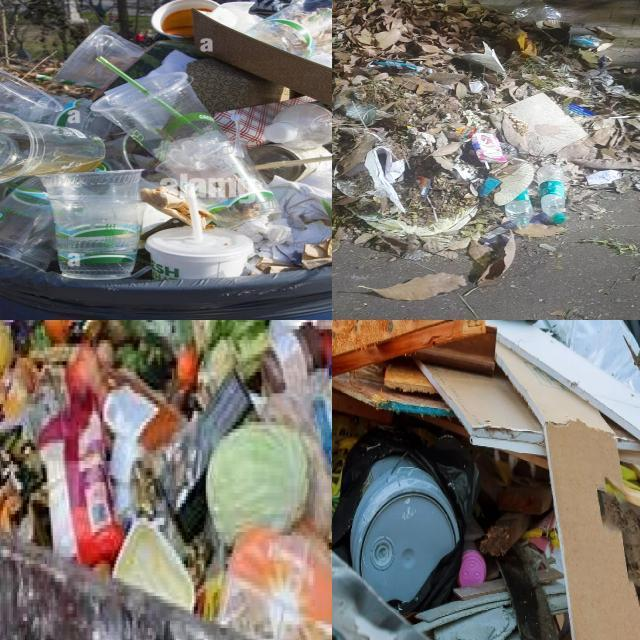Disposable: (94, 72, 264, 195), (39, 170, 147, 279), (0, 69, 113, 138), (0, 111, 106, 183), (147, 226, 254, 278), (55, 25, 144, 87), (0, 177, 55, 270), (190, 171, 278, 228), (247, 0, 332, 58), (247, 143, 331, 164), (259, 162, 324, 182)
Garbage: (0, 320, 332, 640), (332, 320, 640, 640), (0, 0, 332, 279), (332, 0, 640, 284)
Plastic: (332, 413, 366, 519)
Plastic_Bag: (220, 529, 332, 640), (359, 206, 478, 236), (512, 1, 562, 22), (345, 103, 377, 125), (445, 124, 476, 139)
Plastic_Container: (351, 456, 459, 602), (113, 518, 195, 612)
Plastic_Straw: (96, 56, 151, 96), (254, 155, 332, 170), (183, 180, 202, 241), (151, 96, 185, 119), (185, 119, 202, 133), (323, 200, 332, 225)
Plastic_bottle: (264, 102, 332, 148), (536, 164, 566, 224), (504, 191, 532, 230)
Plastic_wraper: (39, 392, 123, 565), (371, 61, 423, 71), (478, 178, 500, 197), (566, 103, 596, 116), (570, 36, 602, 48), (415, 176, 431, 197)
Tetrapack: (472, 133, 506, 163)
